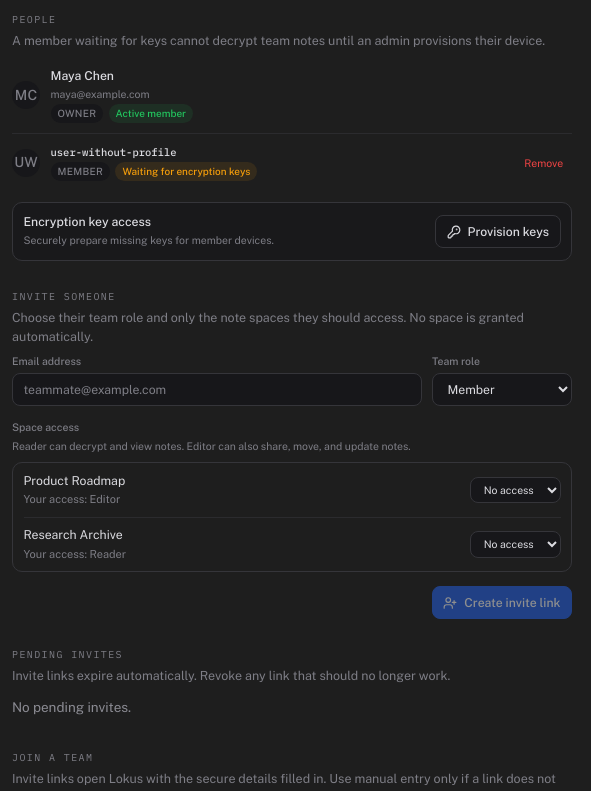
TeamPreferences › creates a scoped admin invite and copies one link without exposing its token
(page scrolled)
Expected: the text "Maya Chen" is shown, [50,68,114,84]
Type "alex@example.com" into the field labelled "Email address" at (217, 390), box [12,373,422,406]
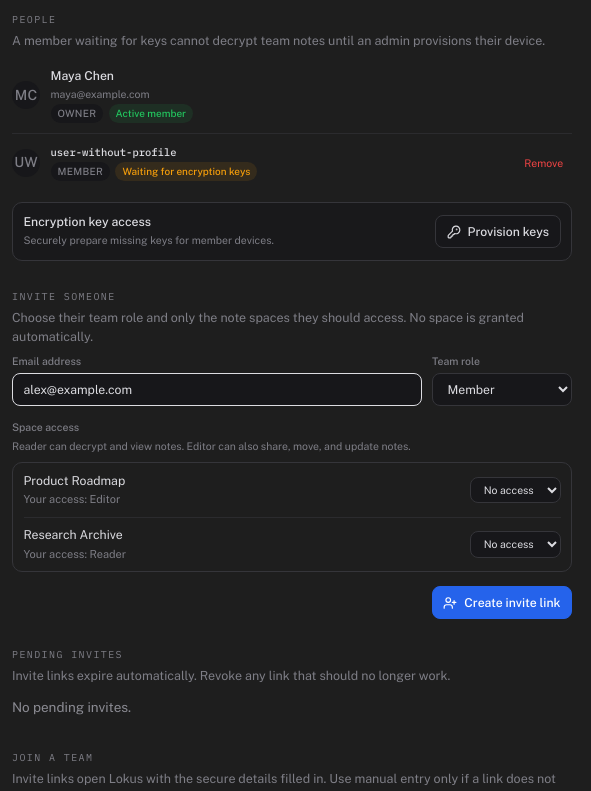
Select "Admin" in the dropdown labelled "Team role" at (502, 390), box [432,373,572,406]
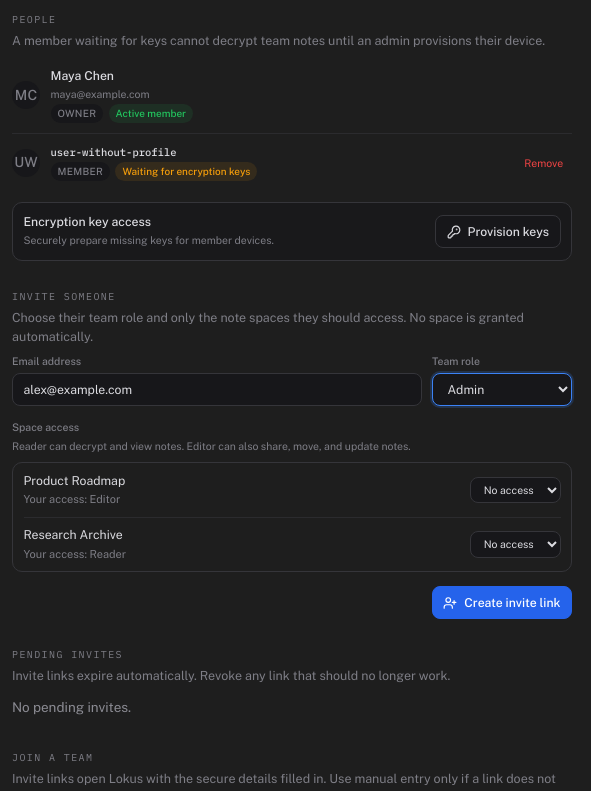
Select "Reader" in the dropdown named "Product Roadmap access" at (515, 490), box [470,477,560,503]
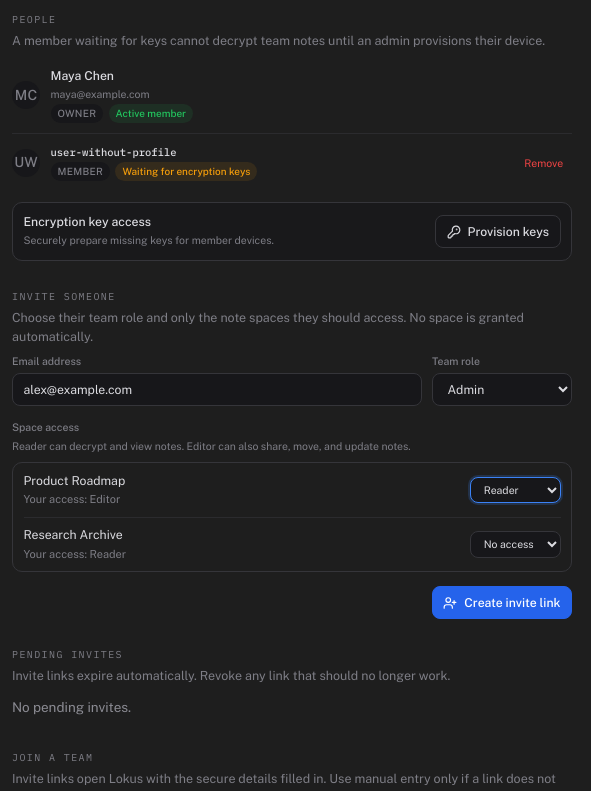
Select "Editor" in the dropdown named "Research Archive access" at (515, 544), box [470,531,560,558]
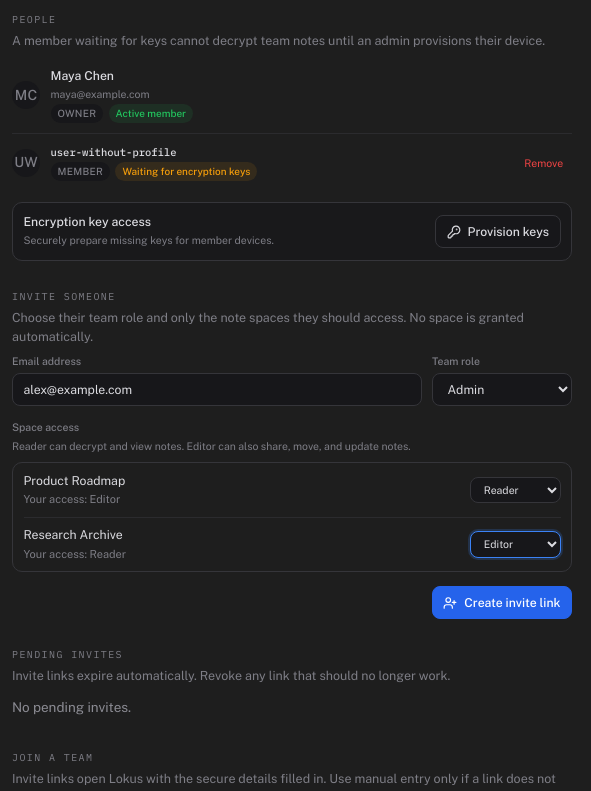
Click the button "Create invite link" at (502, 603), box [432,586,572,620]
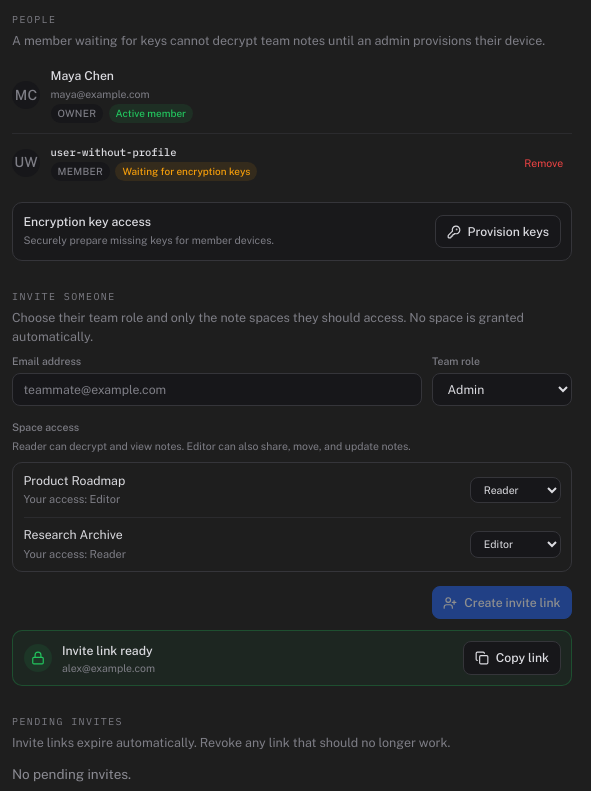
Result: the text "Invite link ready" is shown at [62,643,153,658]
Click the button "Copy link" at (512, 658), box [463,642,560,675]
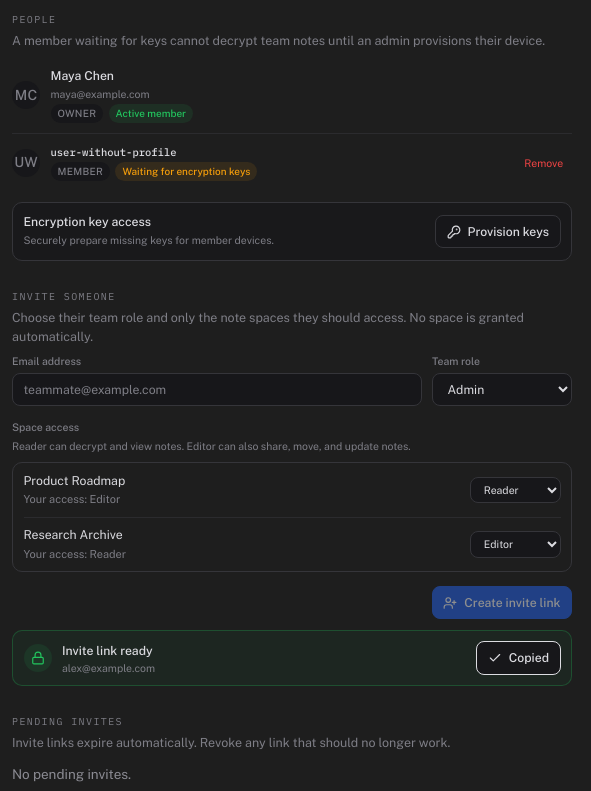
Result: the button "Copied" is shown at [476,642,560,675]
